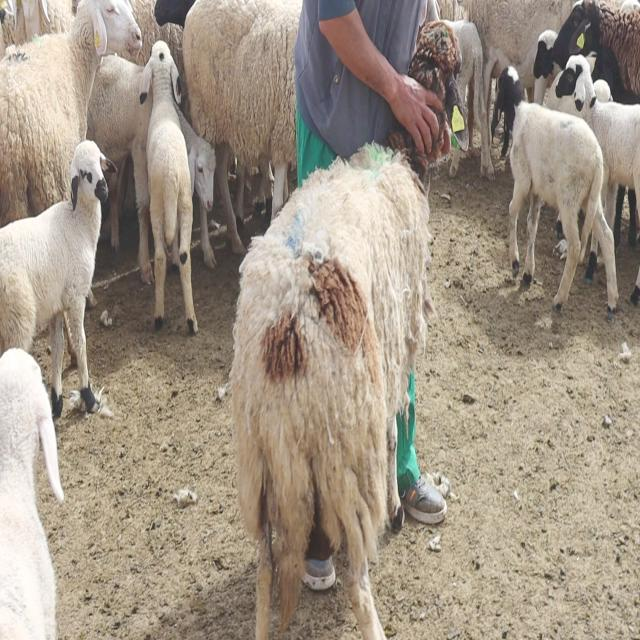Score_1: (229, 122, 448, 639)
